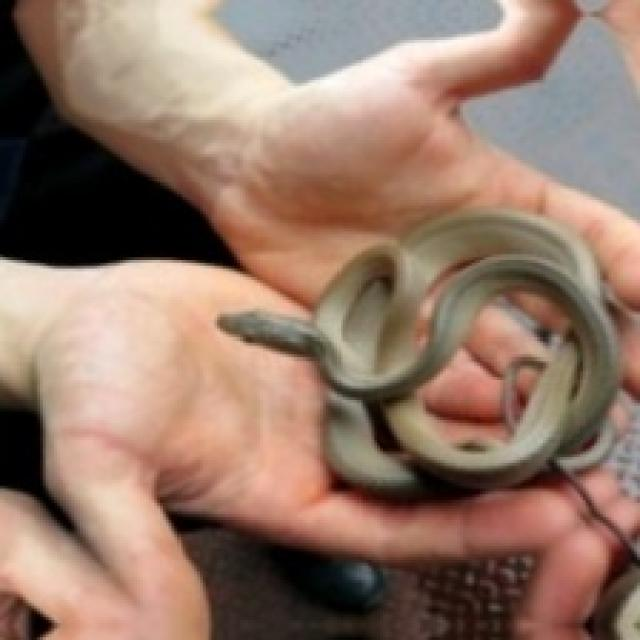red-tailed green ratsnake: (217, 209, 637, 637), (217, 209, 617, 497)
